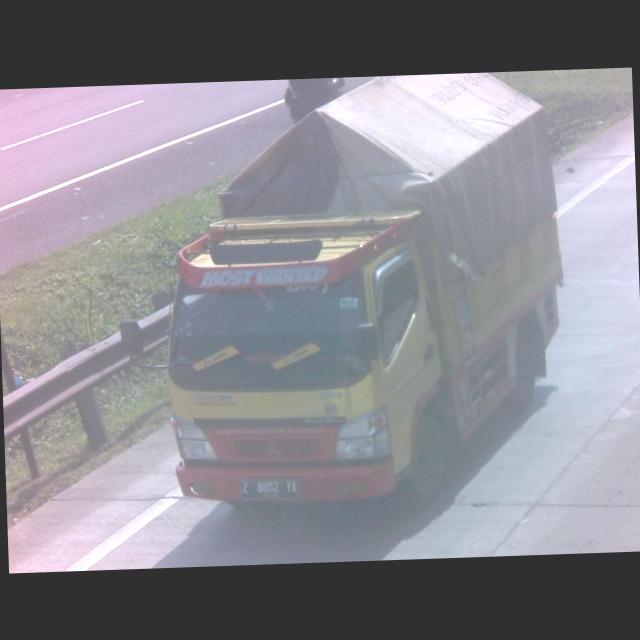plate: (238, 478, 304, 502)
